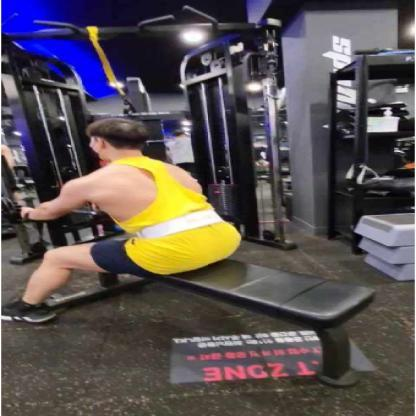Seated Cable Rows: (0, 9, 414, 416)
